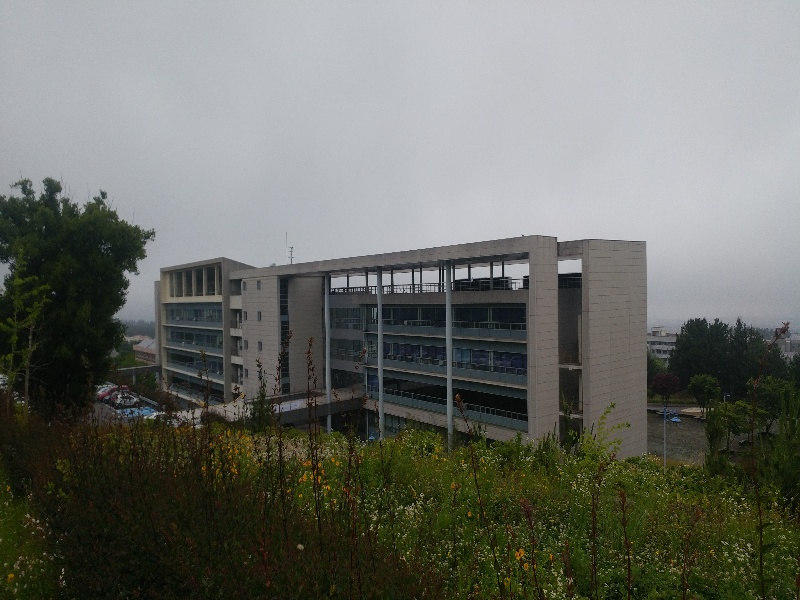Engineering College Building 4: (158, 247, 646, 445), (314, 259, 637, 433)
